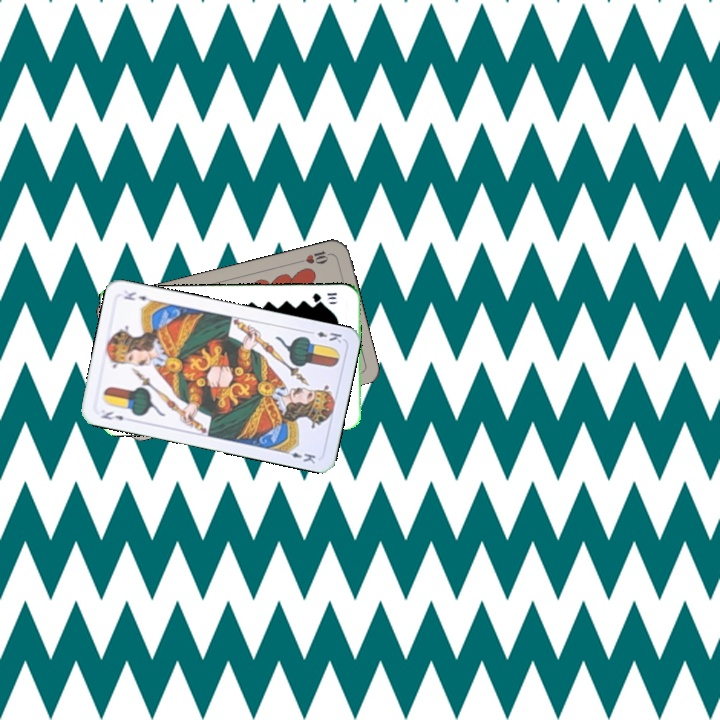EK: (304, 327, 344, 345), (97, 407, 126, 423)
G10: (309, 289, 339, 305)
H10: (294, 246, 334, 266)
